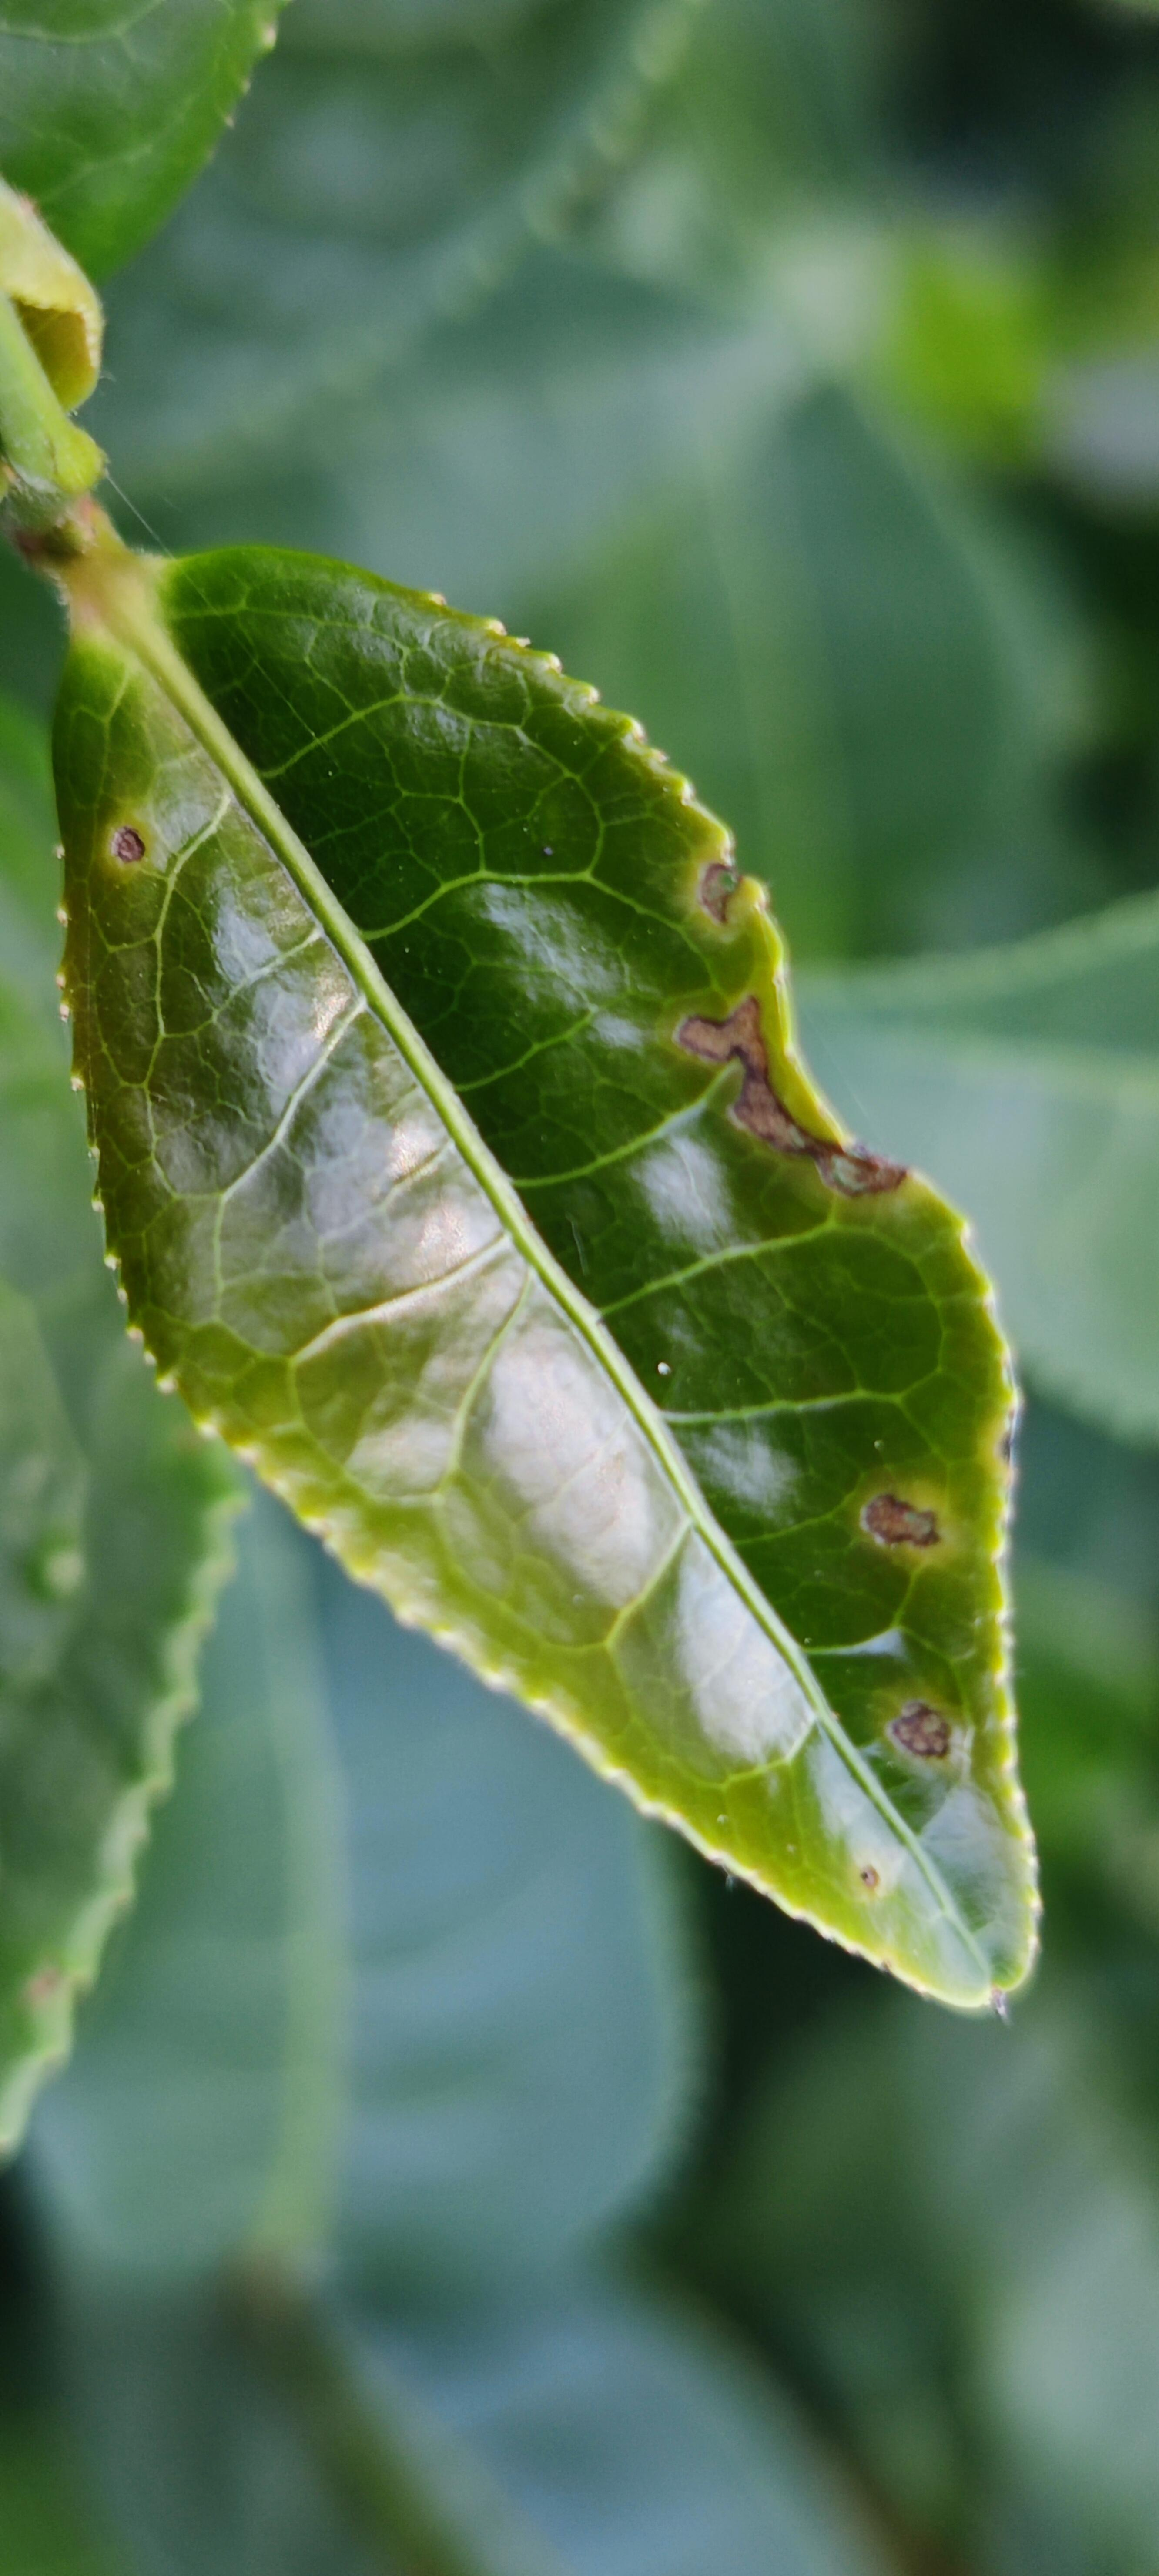tanju_high: (44, 545, 1044, 2011)
